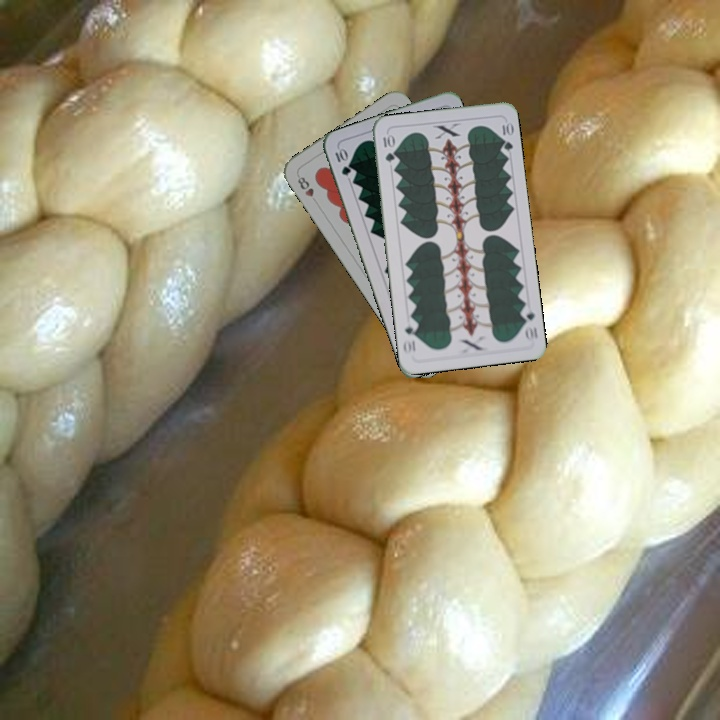G10: (517, 303, 540, 343), (331, 144, 353, 178), (379, 130, 397, 165)
H8: (293, 173, 321, 207)
